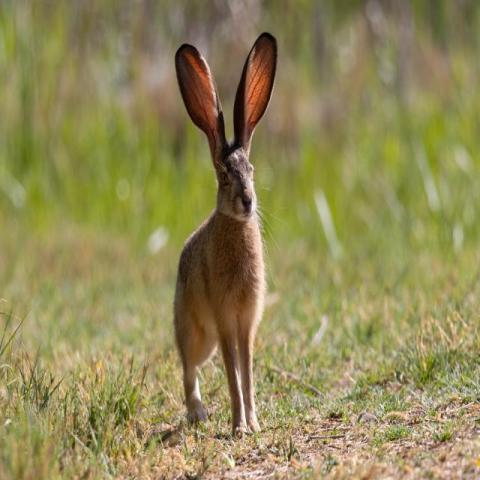small_animal: (170, 30, 280, 438)
